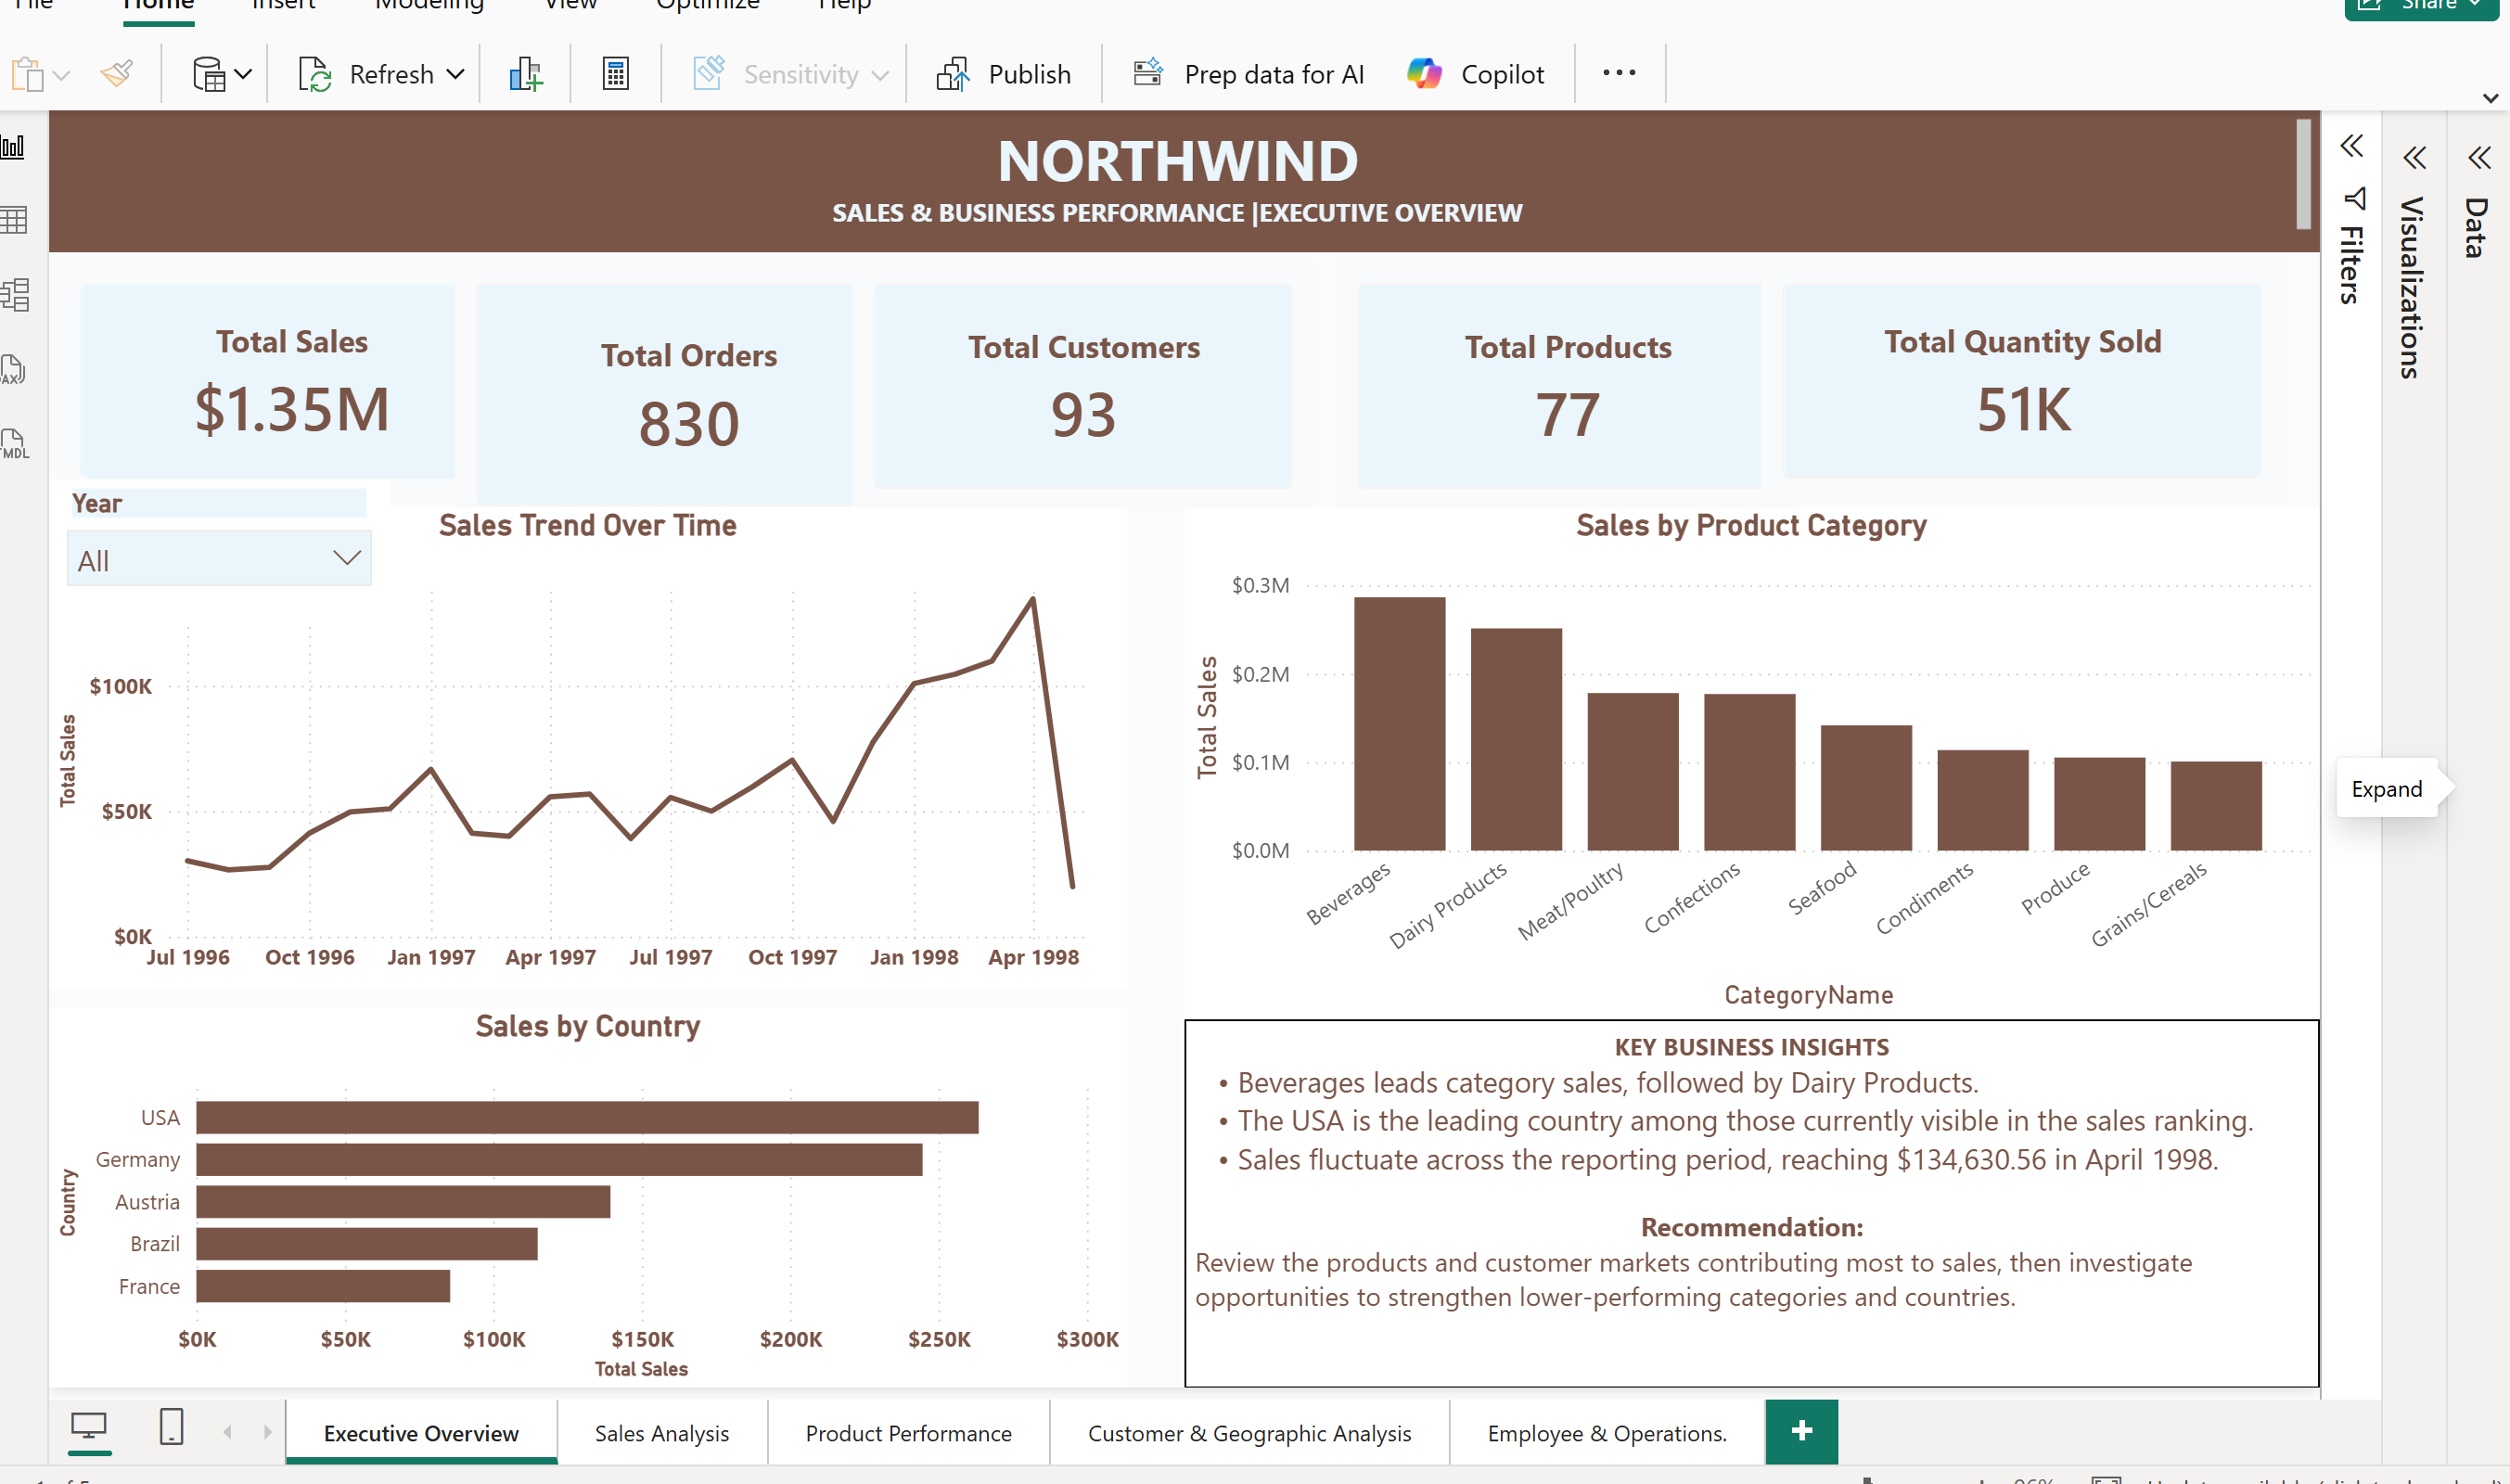

What the dashboard file says about the page in this screenshot:
{"tool":"powerbi","page":{"name":"Executive  Overview","canvas":[1280,720],"ordinal":0},"visuals":[{"type":"cardVisual","fields":{"Data":["OrderDetails.Total Sales"]},"box":[0,80,272,144],"z":0},{"type":"cardVisual","fields":{"Data":["Orders.Total Orders"]},"box":[224,80,272,160],"z":1000},{"type":"cardVisual","fields":{"Data":["Products.Total Products"]},"box":[720,80,270,150],"z":2000},{"type":"cardVisual","fields":{"Data":["Customers.Total Customers"]},"box":[448,80,270,150],"z":3000},{"type":"cardVisual","fields":{"Data":["OrderDetails.Total Quantity Sold"]},"box":[960,80,304,144],"z":4000},{"type":"textbox","box":[0,0,1280,80],"z":5000},{"type":"lineChart","title":"Sales Trend Over Time","fields":{"Y":["OrderDetails.Total Sales"],"Category":["Orders.OrderDate.Variation.Date Hierarchy.Year","Orders.OrderDate.Variation.Date Hierarchy.Month"]},"box":[0,224,608,272],"z":6000},{"type":"clusteredColumnChart","title":"Sales by Product Category","fields":{"Category":["Categories.CategoryName"],"Y":["OrderDetails.Total Sales"]},"box":[640,224,640,288],"z":7000},{"type":"clusteredBarChart","title":"Sales by Country","fields":{"Category":["Customers.Country"],"Y":["OrderDetails.Total Sales"]},"box":[0,506,608,214],"z":8000},{"type":"textbox","box":[640,512,640,208],"z":9000},{"type":"slicer","fields":{"Values":["Orders.OrderDate.Variation.Date Hierarchy.Year"]},"box":[0,208,192,80],"z":10000}]}

Visuals, with their boxes on the page's 1280x720 design canvas (x1, y1, x2, y2). These are canvas units, not pixel positions in the 2510x1484 screenshot, which may show the page scaled, cropped or inside an application window:
cardVisual - OrderDetails.Total Sales: 0/80/272/224
cardVisual - Orders.Total Orders: 224/80/496/240
cardVisual - Products.Total Products: 720/80/990/230
cardVisual - Customers.Total Customers: 448/80/718/230
cardVisual - OrderDetails.Total Quantity Sold: 960/80/1264/224
textbox: 0/0/1280/80
"Sales Trend Over Time" lineChart: 0/224/608/496
"Sales by Product Category" clusteredColumnChart: 640/224/1280/512
"Sales by Country" clusteredBarChart: 0/506/608/720
textbox: 640/512/1280/720
slicer - Orders.OrderDate.Variation.Date Hierarchy.Year: 0/208/192/288
